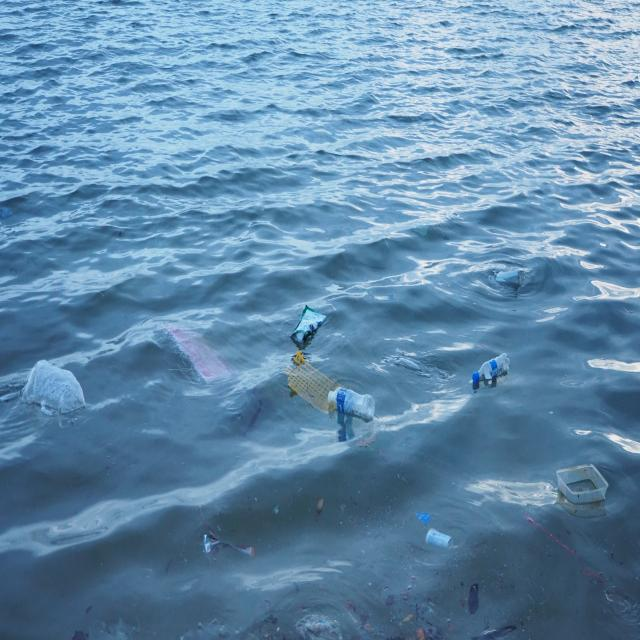plastic: (465, 350, 514, 390), (331, 387, 376, 425), (494, 260, 528, 284)
plastic bottle: (20, 355, 87, 422), (555, 461, 609, 506), (289, 301, 328, 348), (425, 526, 453, 557)
unknow: (163, 321, 234, 397), (284, 356, 341, 413), (205, 525, 253, 563)
